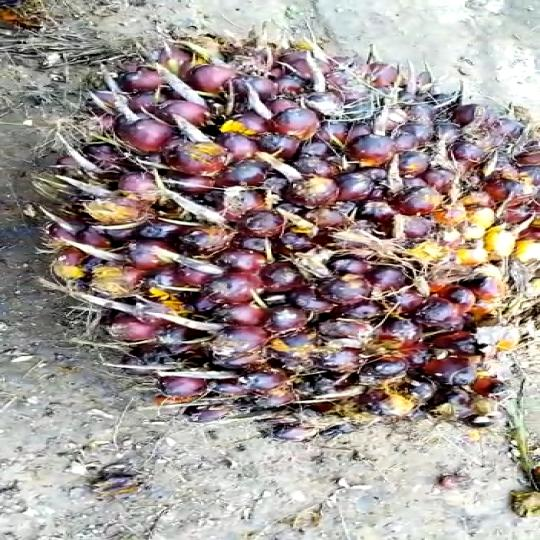kurang masak: (0, 15, 540, 461)
